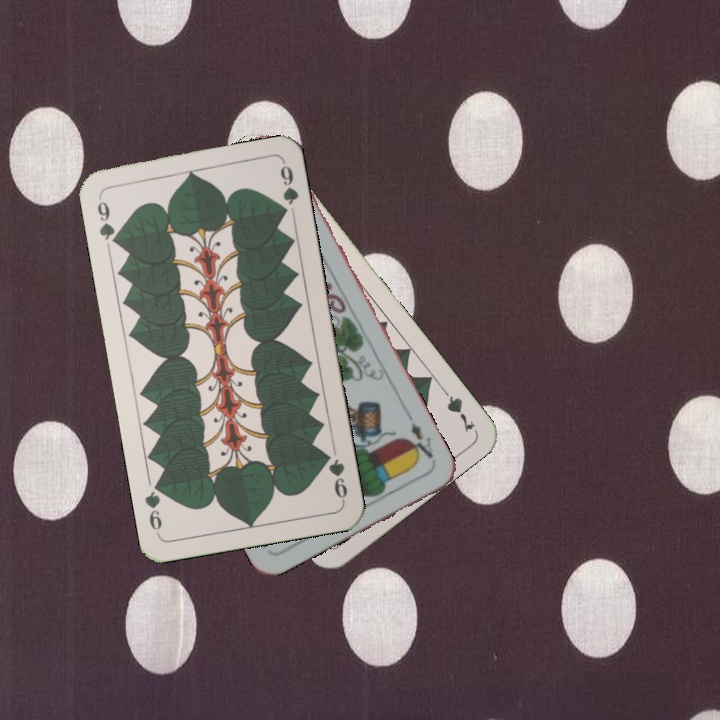EA: (404, 411, 436, 463)
G7: (436, 382, 478, 436)
G9: (319, 447, 350, 504), (93, 192, 122, 249)
